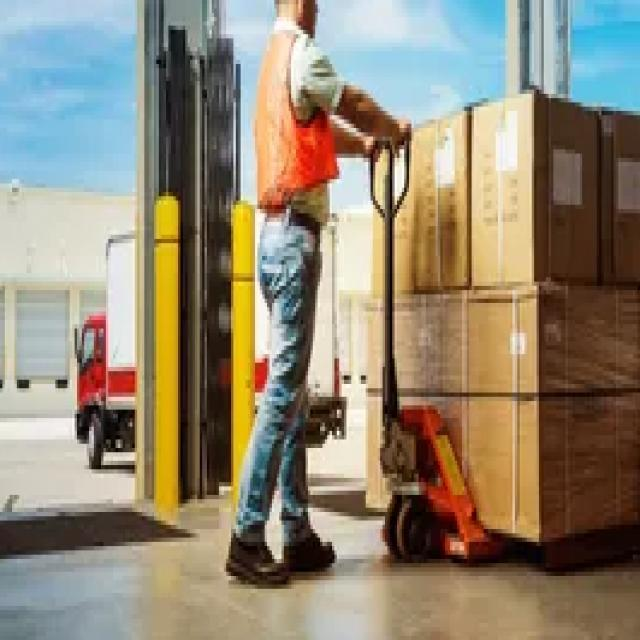shoes: (220, 512, 342, 598)
vest: (254, 18, 341, 236)
